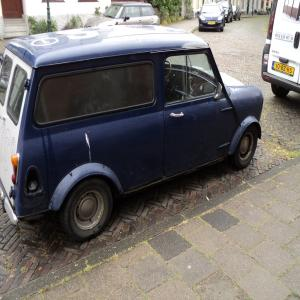Vehicle-registration-plate: (273, 63, 296, 77)
